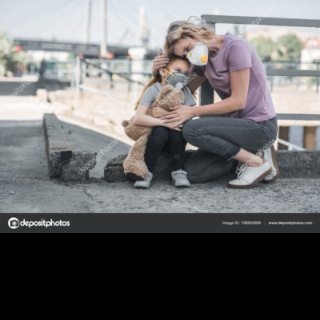with_mask: (180, 40, 209, 65), (164, 66, 190, 91)
